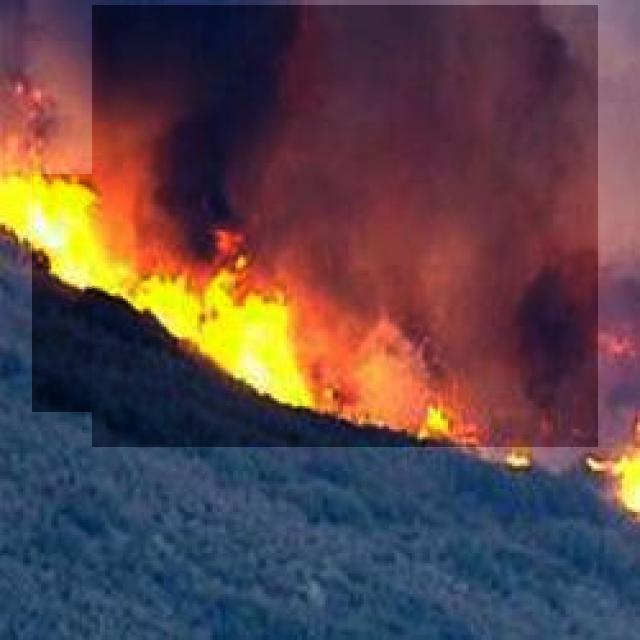Fire: (32, 174, 334, 412)
Smoke: (92, 5, 598, 448)
